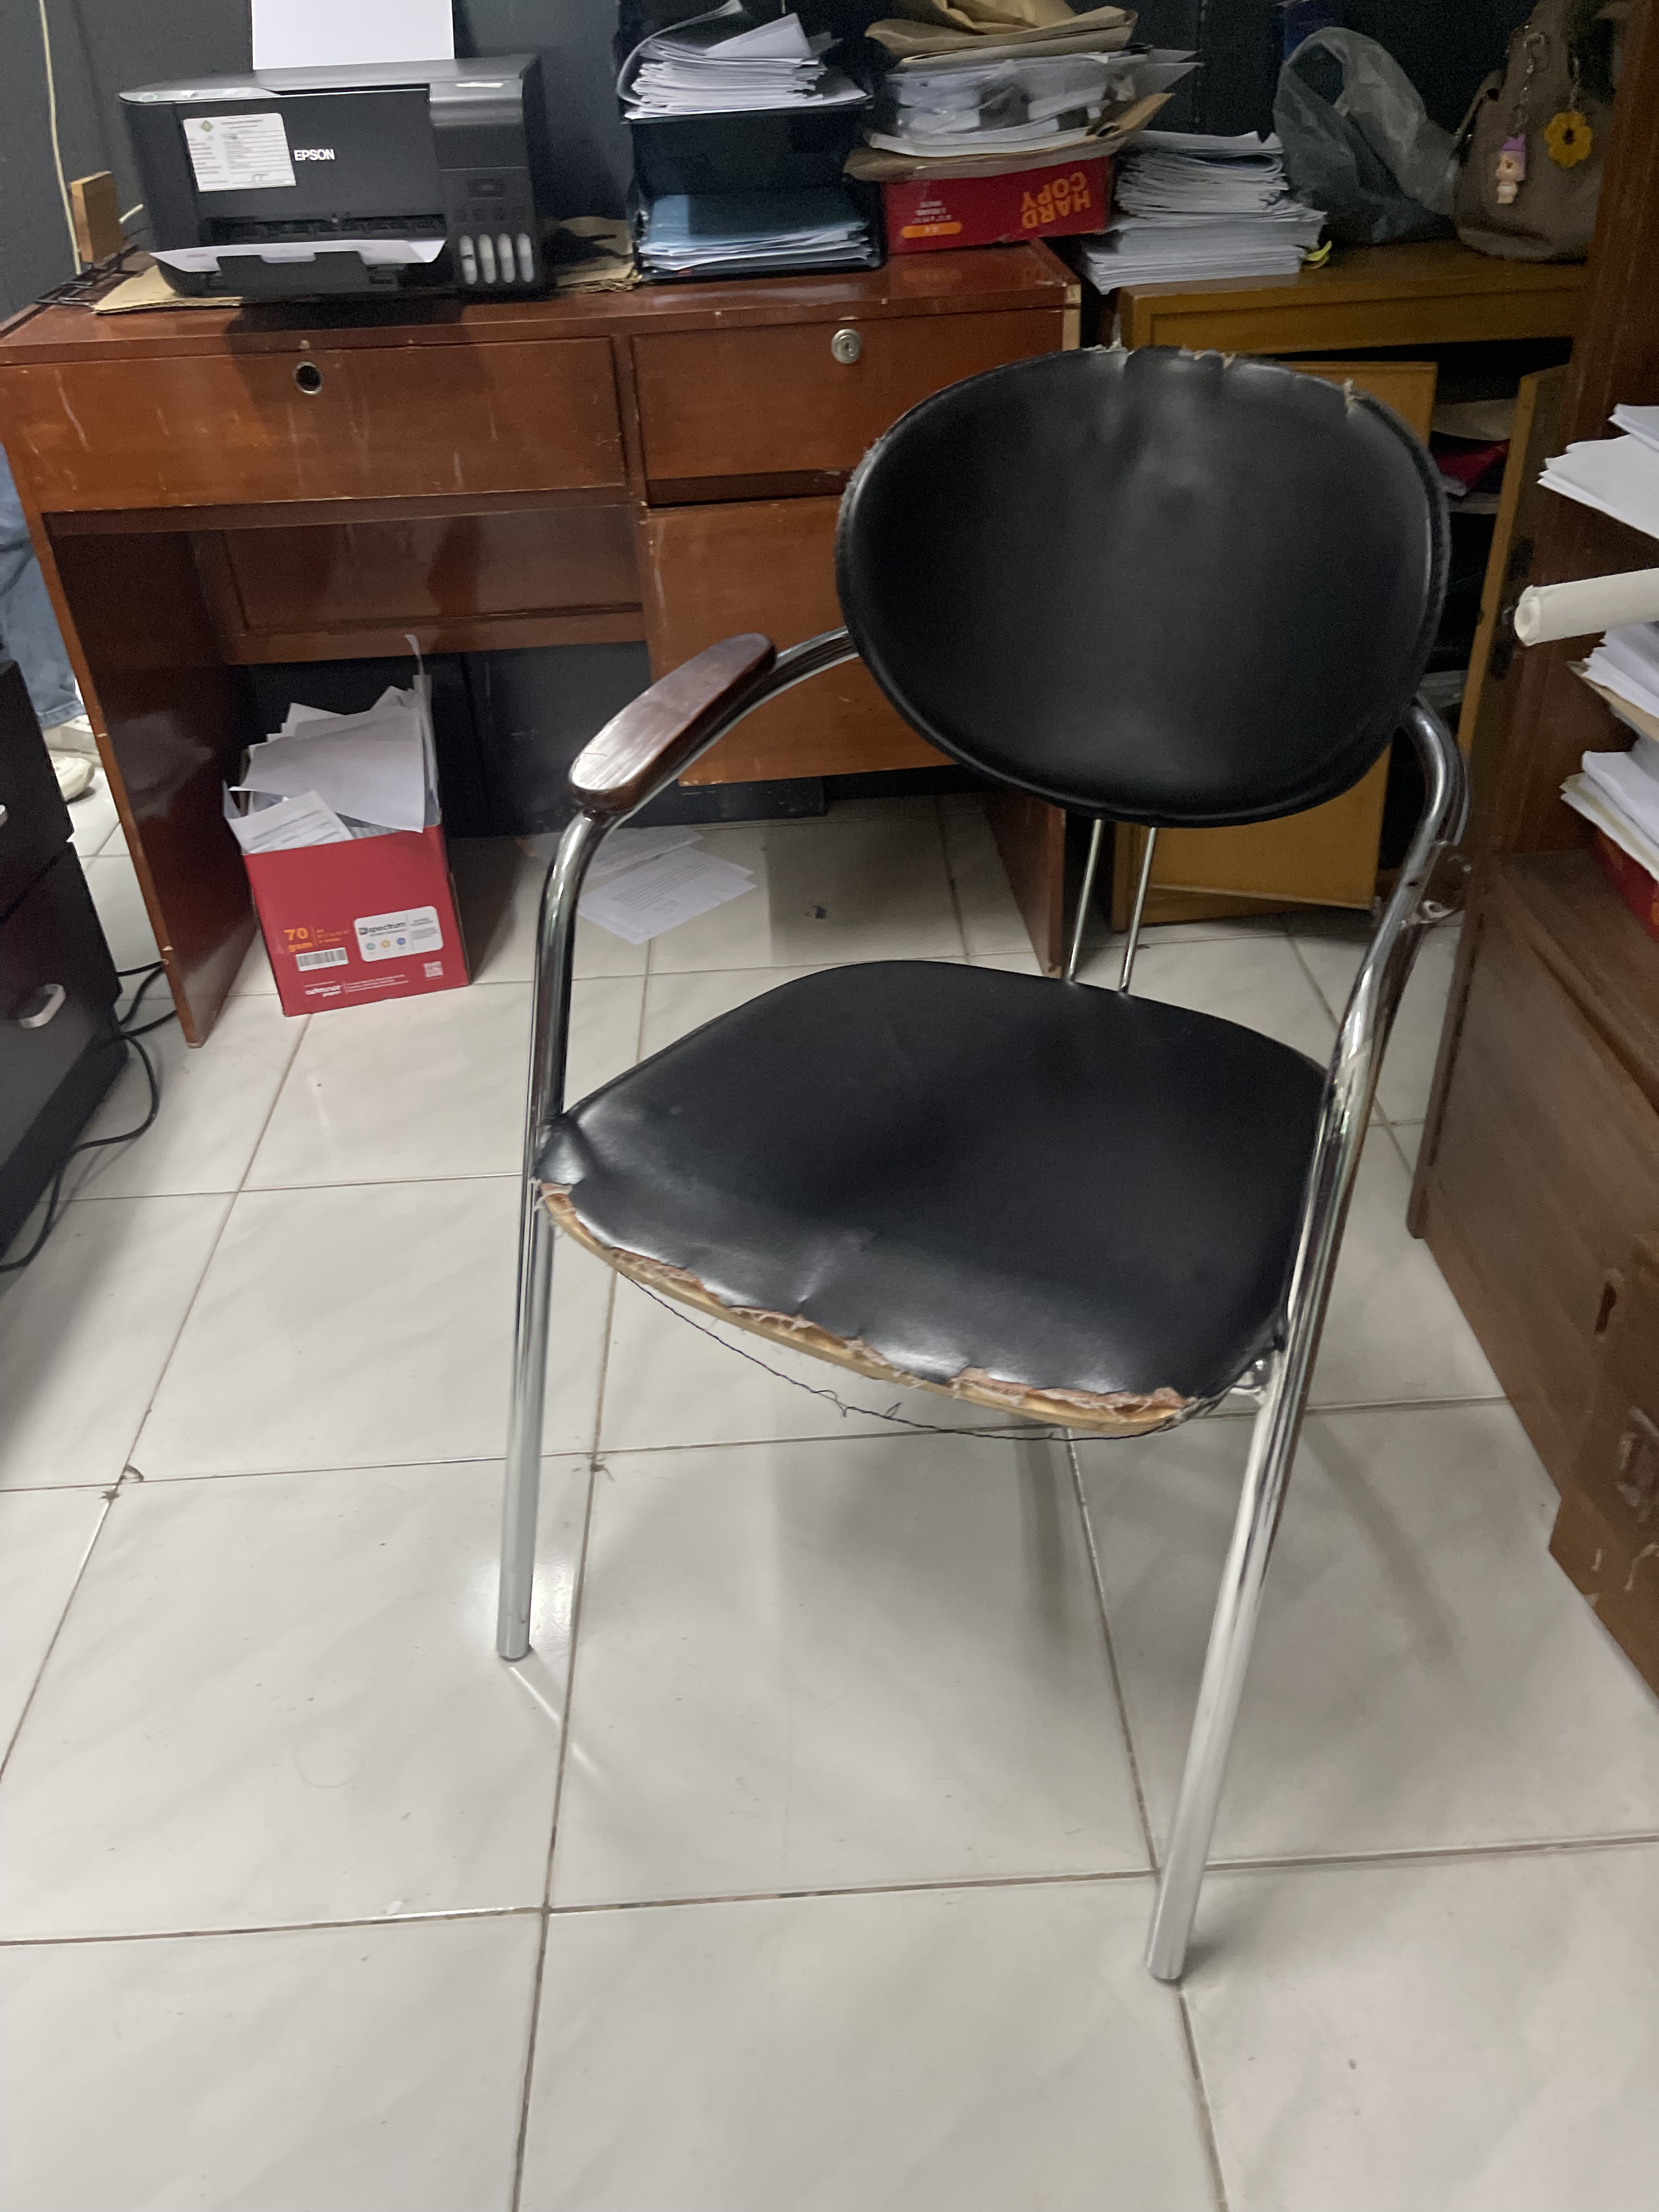chair1: (486, 340, 1476, 2000)
